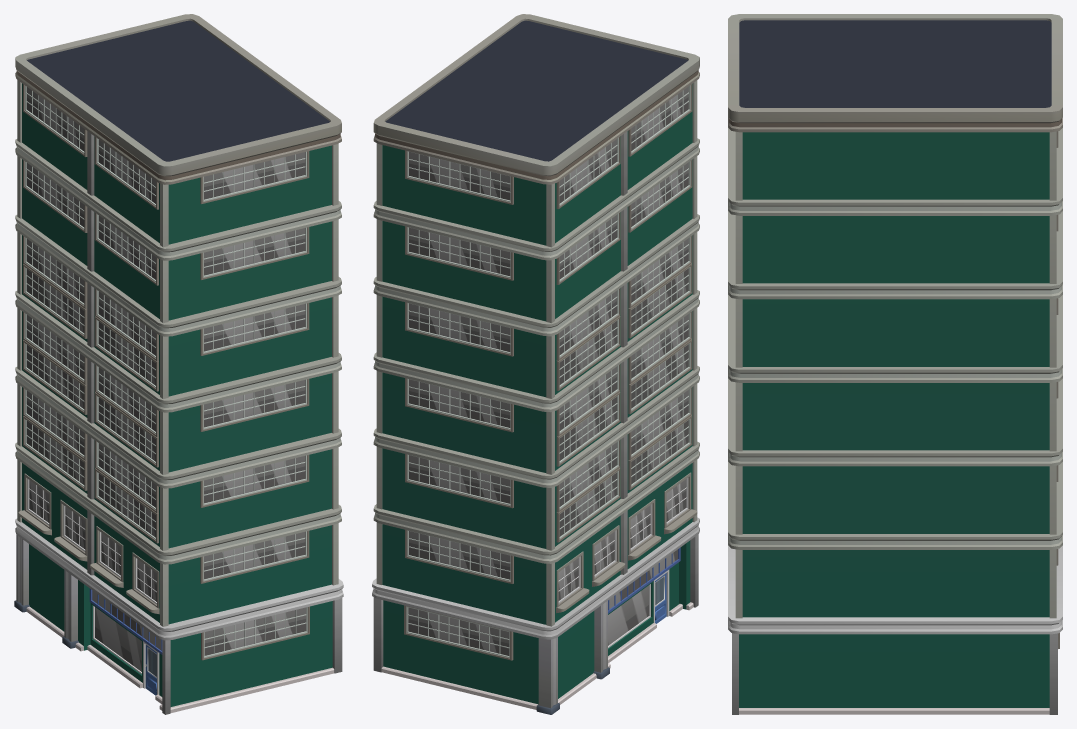
The model's file is Building_11_5_D.fbx.
3 renders of one model, left to right at view 1: azimuth 30°, elevation 25°; view 2: azimuth 150°, elevation 25°; view 3: azimuth 270°, elevation 25°, orthographic. The views are drawn at different scales.
Parts seen in each view (by area): view 1: Building_11_5_D; view 2: Building_11_5_D; view 3: Building_11_5_D.
Part boxes in pixels (x1,y1,x2,y2): Building_11_5_D: (14, 14, 343, 714); Building_11_5_D: (372, 14, 699, 714); Building_11_5_D: (728, 14, 1062, 714).
Bounding box in the file's own units: 827 × 2314 × 1163.
